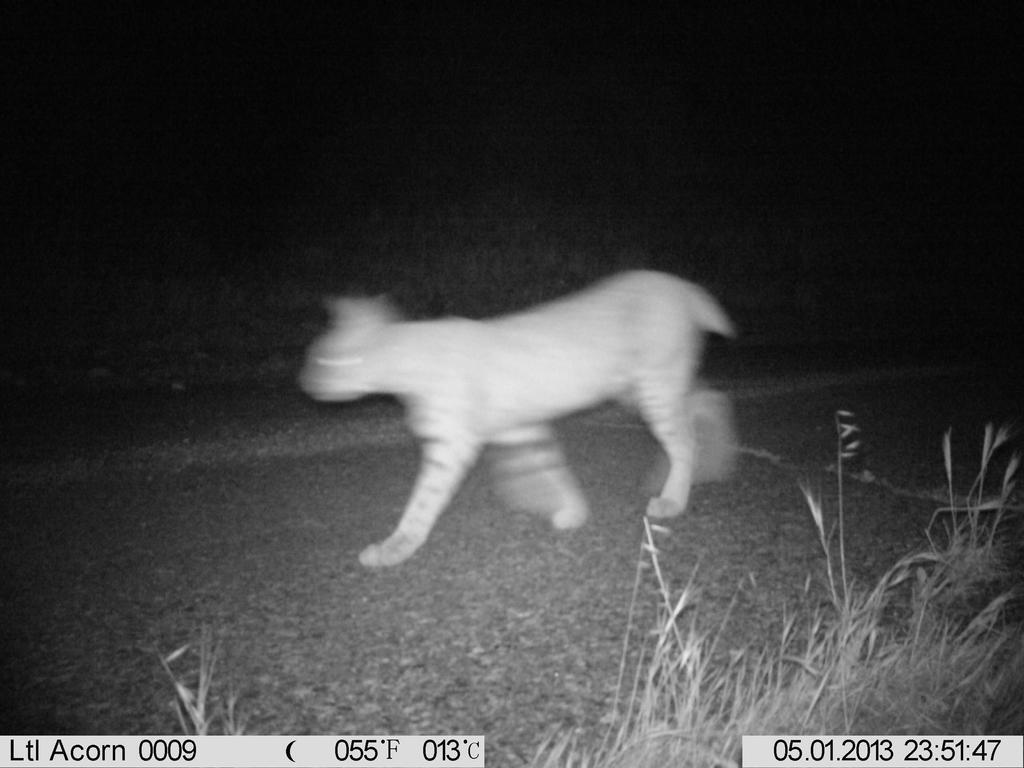bobcat: (286, 259, 757, 583)
